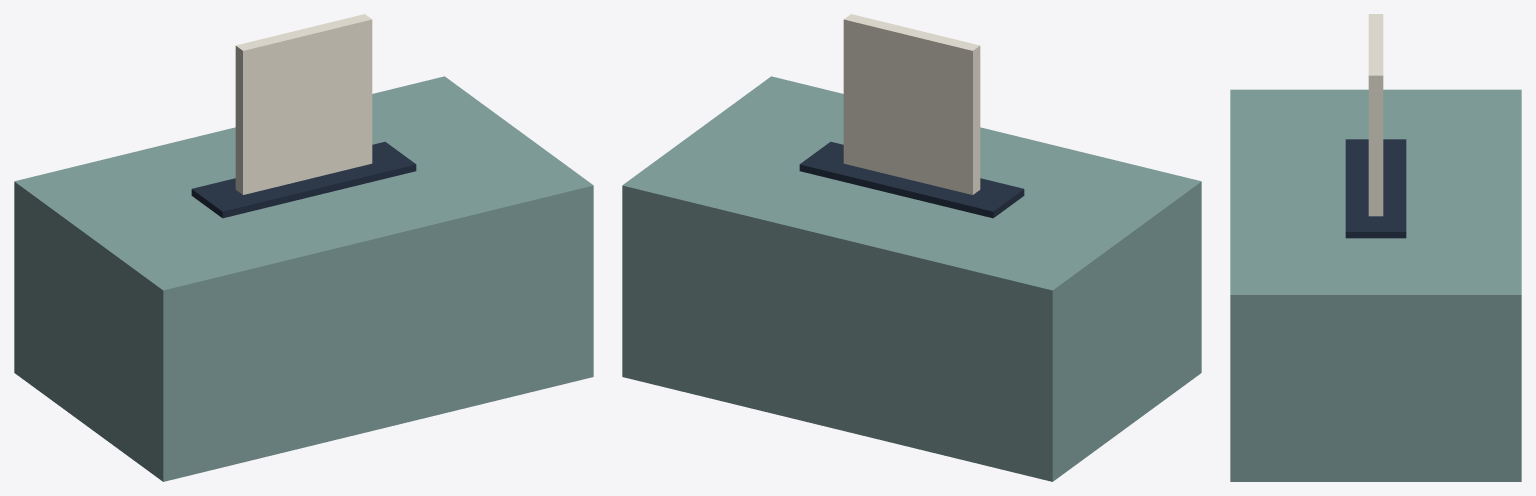
File: officeTissueBox.glb
3 renders of one model, left to right at view 1: azimuth 30°, elevation 25°; view 2: azimuth 150°, elevation 25°; view 3: azimuth 270°, elevation 25°, orthographic. The views are drawn at different scales.
Size of the model in its own units: 0.2 by 0.152 by 0.12.
